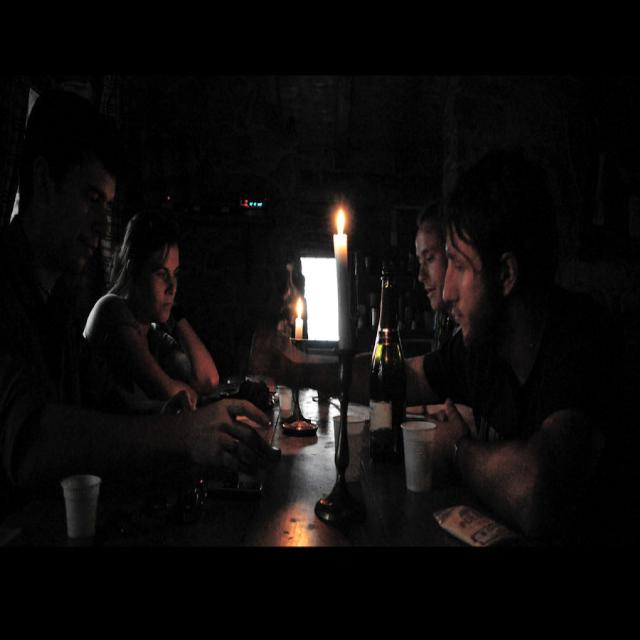Bottle: (373, 254, 425, 498)
Cup: (397, 391, 445, 511), (47, 455, 104, 542)
People: (426, 93, 625, 478), (0, 95, 128, 456), (89, 198, 243, 443), (380, 184, 461, 365)
Table: (0, 393, 617, 640)
